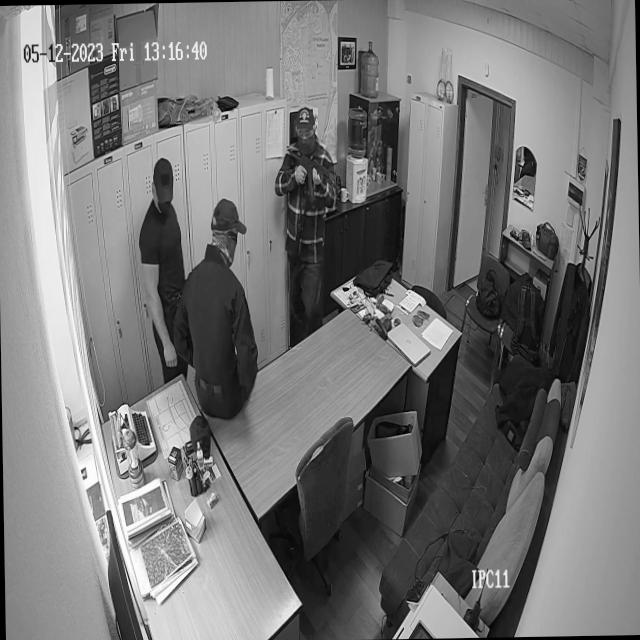gun: (292, 148, 338, 204), (509, 227, 518, 242)
person: (183, 190, 258, 423), (140, 155, 192, 394)
person with a gun: (276, 109, 340, 338)
